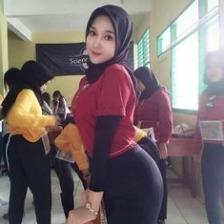Non Syar-i: (83, 4, 136, 85)
